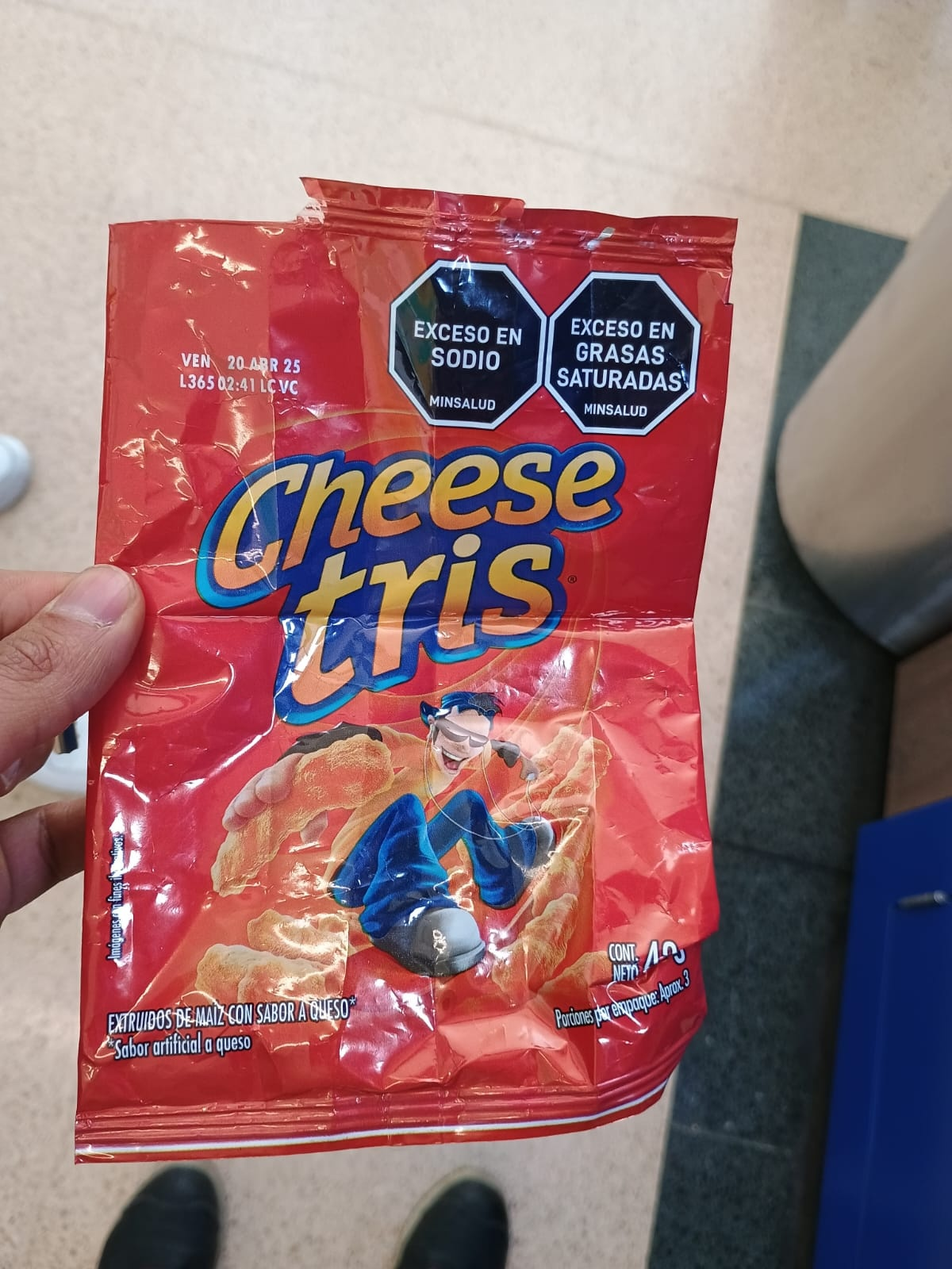Ordinario: (73, 175, 738, 1156)
